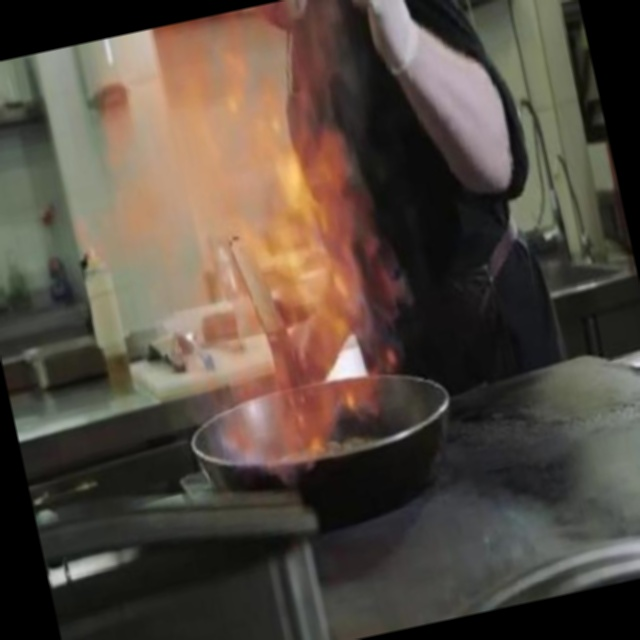fire: (104, 0, 427, 492)
